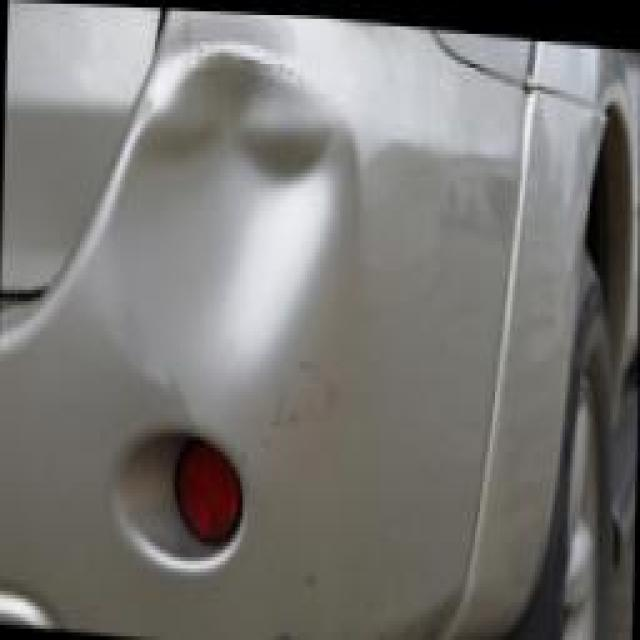Bumper: (62, 8, 392, 451)
